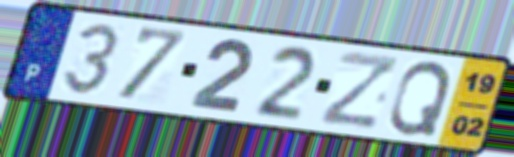2: (187, 36, 257, 117), (252, 44, 320, 123)
3: (57, 21, 124, 96)
7: (114, 24, 190, 103)
Q: (386, 59, 455, 138)
Z: (316, 48, 403, 131)
